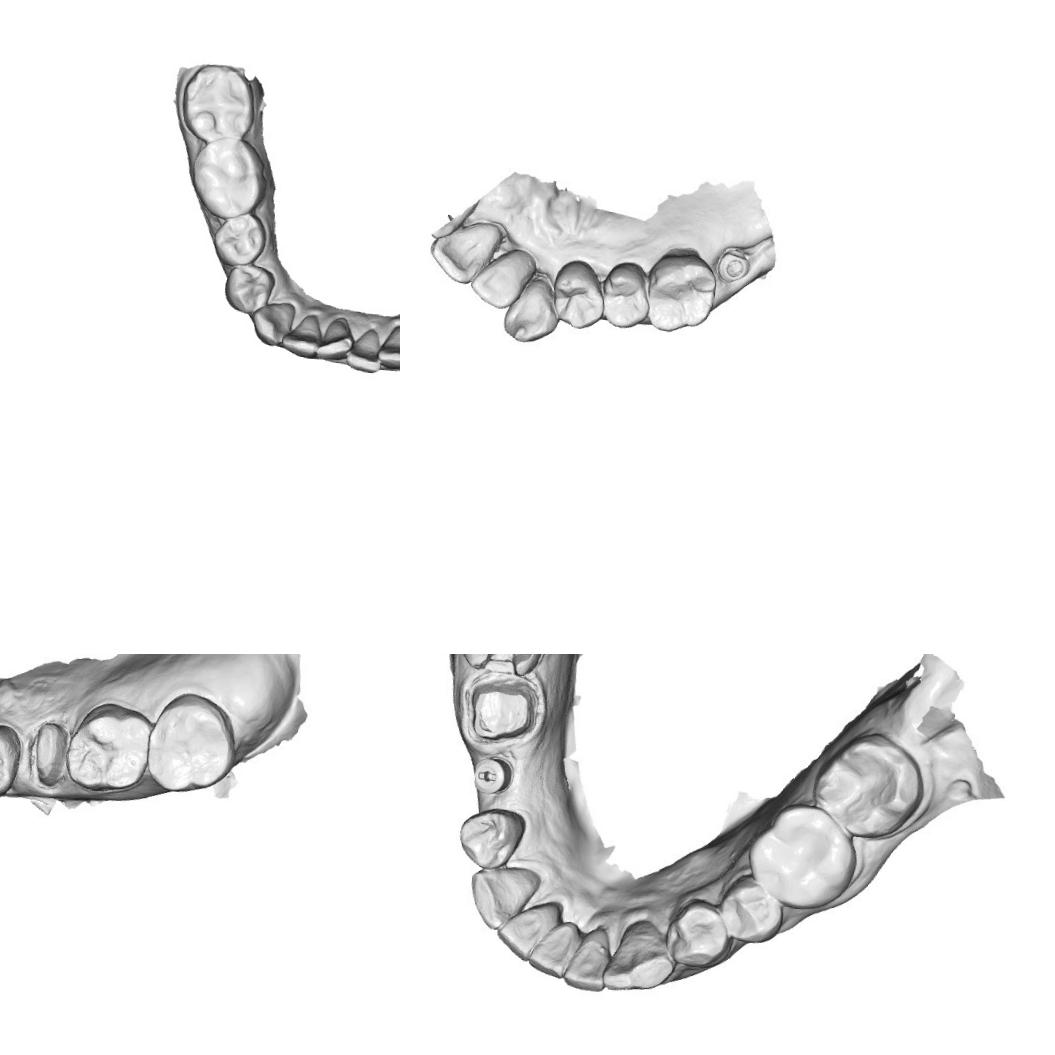canine: (599, 927, 675, 996), (463, 860, 531, 934), (500, 275, 562, 346), (247, 297, 295, 348)
crown: (462, 670, 547, 750), (28, 716, 74, 786)
implant: (714, 246, 754, 284)
implant_minus: (468, 747, 515, 800)
incisor: (492, 897, 559, 965), (426, 222, 496, 286), (524, 914, 582, 980), (470, 250, 532, 309), (562, 934, 612, 994), (279, 310, 324, 362), (314, 314, 356, 367), (342, 325, 384, 376), (374, 321, 400, 373)
inlay: (456, 654, 546, 678)
molar: (807, 725, 929, 848), (740, 800, 856, 914), (148, 692, 238, 796), (67, 702, 152, 794), (186, 132, 271, 223), (642, 244, 720, 338), (178, 61, 258, 145)
premolar: (714, 874, 786, 946), (662, 899, 732, 972), (454, 804, 526, 873), (548, 256, 609, 333), (598, 258, 654, 332), (210, 210, 269, 268), (221, 260, 277, 318), (0, 719, 23, 797)
